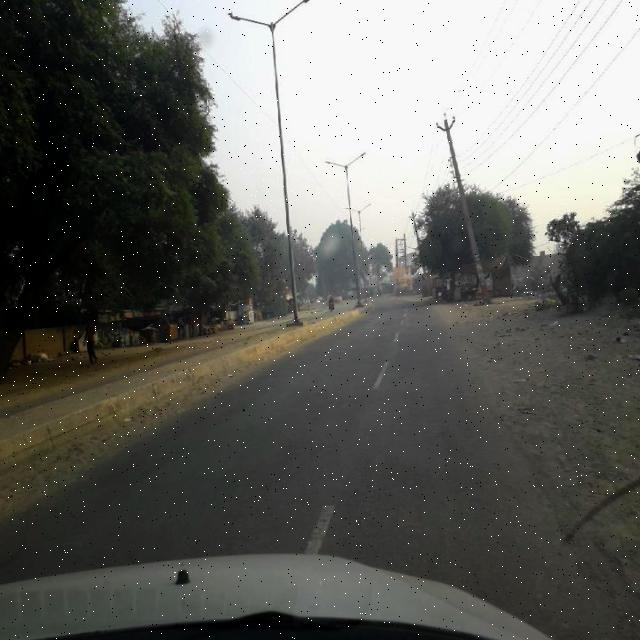D44: (286, 494, 344, 564)
